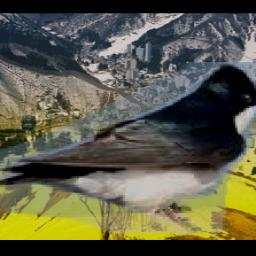Swallow: (0, 62, 256, 234)
